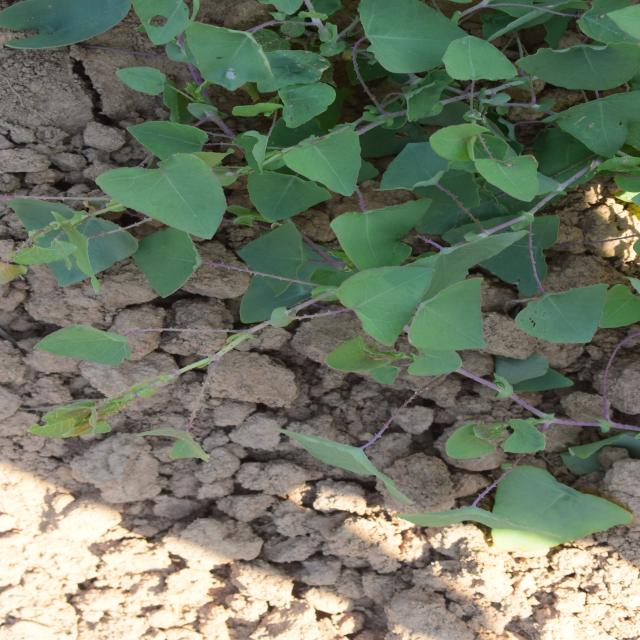Asiatic_Smartweed: (328, 28, 516, 360), (172, 24, 329, 252), (76, 397, 234, 608), (246, 322, 386, 490), (120, 270, 227, 408)
